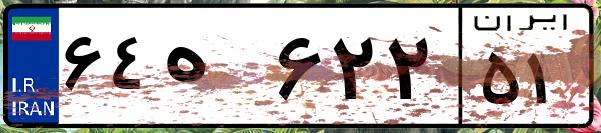1: (525, 38, 570, 115)
2: (385, 28, 445, 110), (330, 28, 385, 110)
4: (110, 28, 158, 98)
5: (475, 38, 525, 113)
6: (270, 28, 330, 110), (57, 26, 110, 100)
ه: (158, 20, 270, 120)
